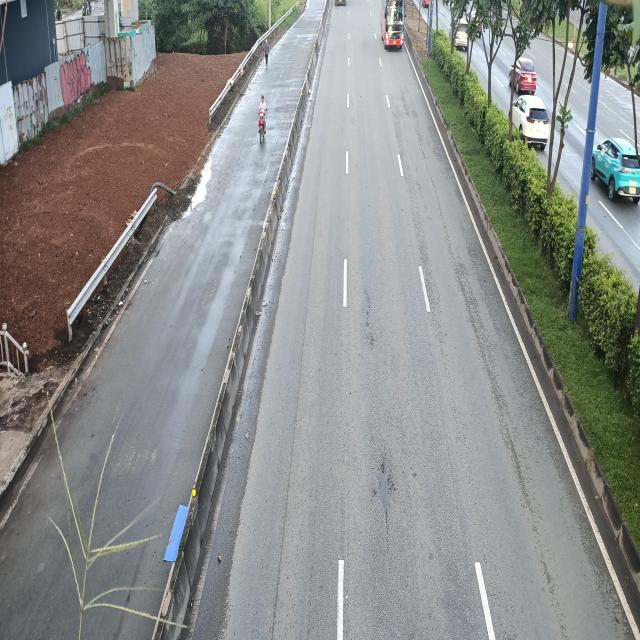coach: (381, 0, 407, 49)
